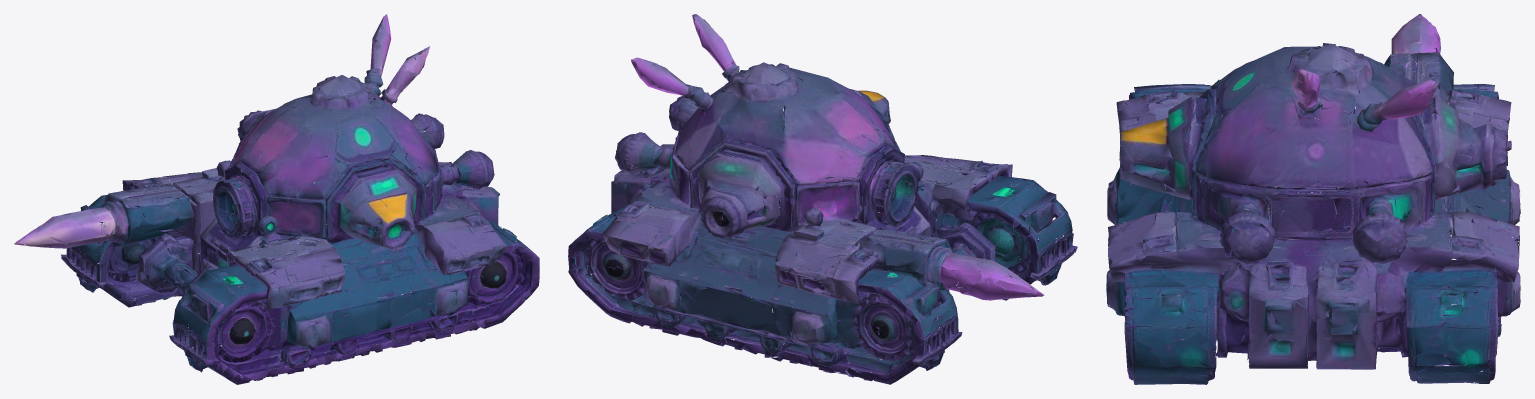
File: basso.glb
The picture shows the model from 3 angles, left to right: view 1: azimuth 30°, elevation 25°; view 2: azimuth 150°, elevation 25°; view 3: azimuth 270°, elevation 25°; orthographic projection. The views are drawn at different scales.
Parts seen in each view (by area): view 1: Mesh_0; view 2: Mesh_0; view 3: Mesh_0.
Part boxes in pixels (box(x1,y1,x2,y2)): Mesh_0: box(14, 14, 539, 384); Mesh_0: box(568, 14, 1077, 384); Mesh_0: box(1106, 14, 1520, 384).
Bounding box in the file's own units: 1.9 × 0.9999 × 1.2.
1 material, 1 textured.
